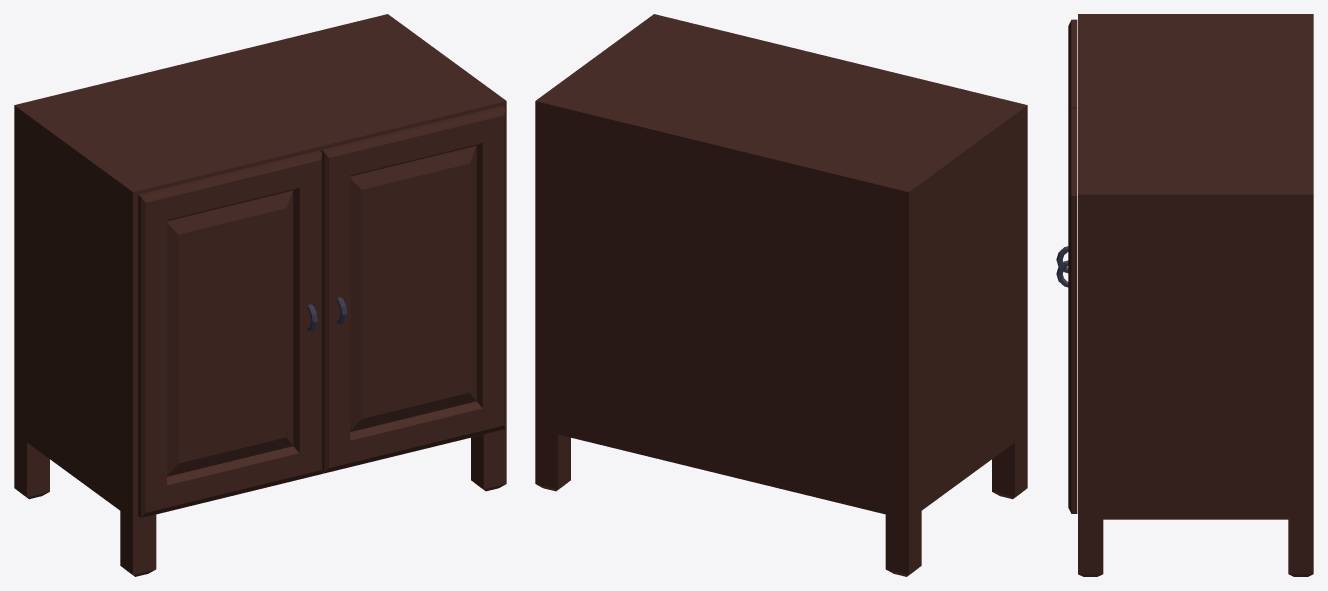
File: Cabinet.glb
3 renders of one model, left to right at view 1: azimuth 30°, elevation 25°; view 2: azimuth 150°, elevation 25°; view 3: azimuth 270°, elevation 25°, orthographic.
Visible parts, largest first — view 1: cabinet; view 2: cabinet; view 3: cabinet.
Part boxes in pixels (box(x1,y1,x2,y2)): cabinet: box(14, 14, 506, 576); cabinet: box(535, 14, 1027, 576); cabinet: box(1056, 14, 1313, 576).
Bounding box in the file's own units: 0.4959 × 0.4922 × 0.2983.
Materials: 1 (1 with a texture image).
